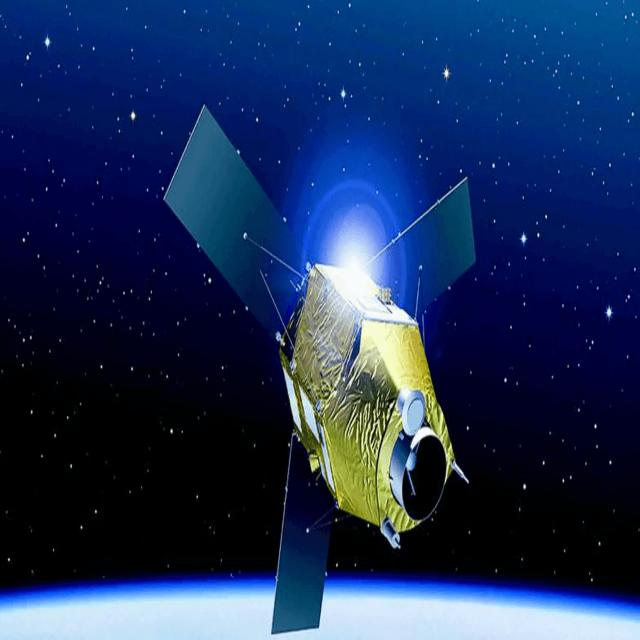medium_debris: (155, 91, 490, 640)
